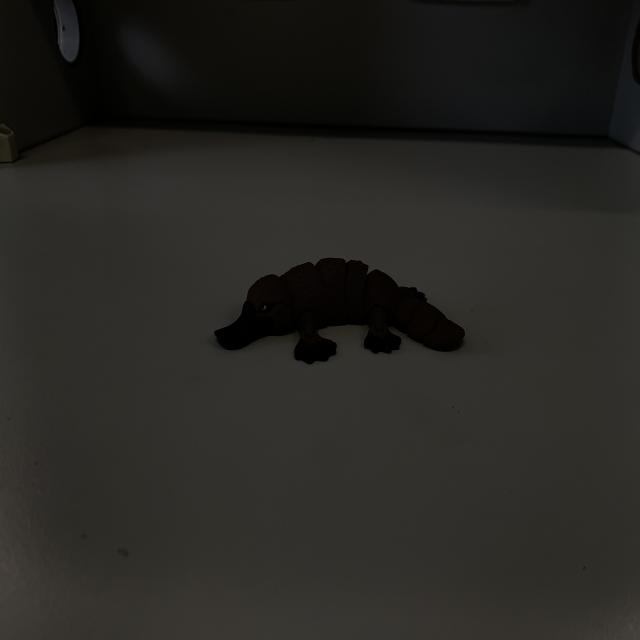platypus: (211, 254, 463, 363)
